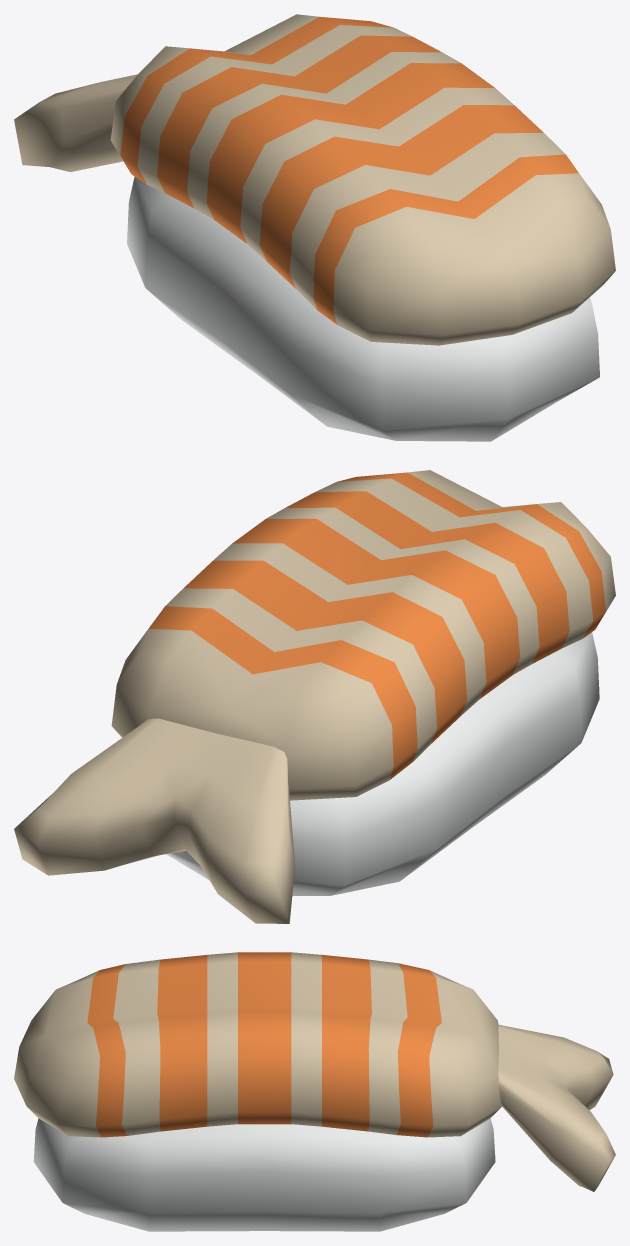
The model's file is ebi_nigiri.glb.
3 views of the same model, one above another, from view 1: azimuth 30°, elevation 25°; view 2: azimuth 150°, elevation 25°; view 3: azimuth 270°, elevation 25° (orthographic). The views are drawn at different scales.
Parts seen in each view (by area): view 1: Food_EbiNigiri; view 2: Food_EbiNigiri; view 3: Food_EbiNigiri.
Boxes of the visible parts, x1,y1,x2,y2 form: Food_EbiNigiri: [14, 14, 615, 441]; Food_EbiNigiri: [14, 470, 615, 923]; Food_EbiNigiri: [14, 952, 615, 1231].
Bounding box in the file's own units: 0.3456 × 0.3059 × 0.782.
Materials: 1 (1 with a texture image).
